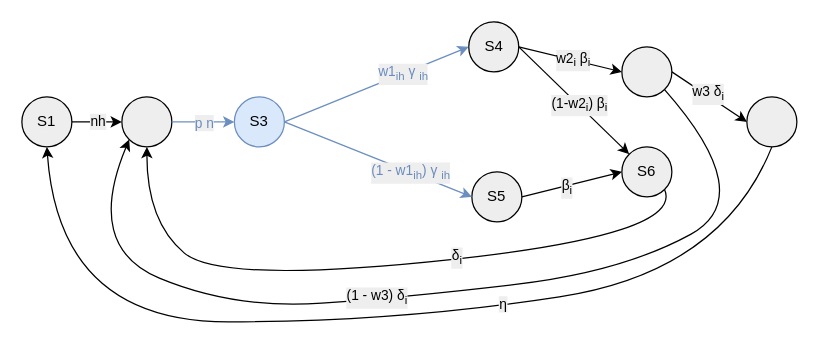
The diagram is 819 pixels wide and 344 high, and some of its shapes have lost their labels. The centre of each missing label's shape, as x and y in pixels:
"S2" belongs at [146,121].
"S7" belongs at [646,71].
"S8" belongs at [771,121].
